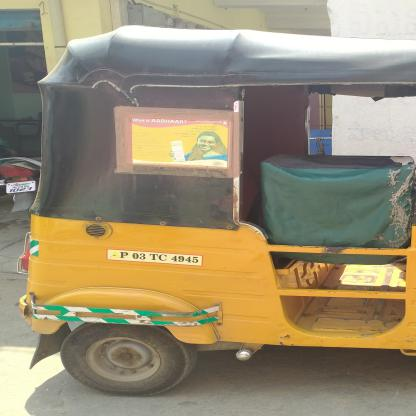Number_Plate_Detected: (106, 247, 201, 268)
